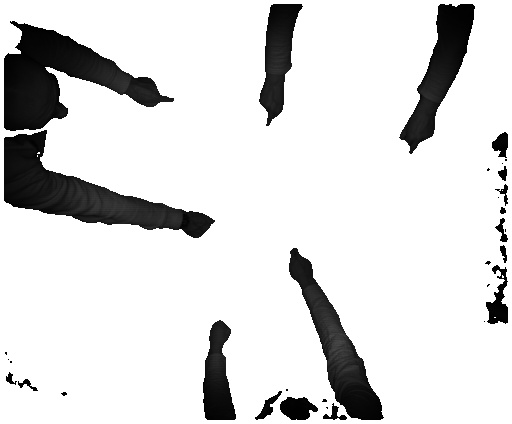fist: (187, 211, 215, 239), (208, 320, 231, 349)
hand: (392, 112, 437, 159), (134, 77, 175, 111), (256, 85, 287, 127), (288, 248, 317, 287)
